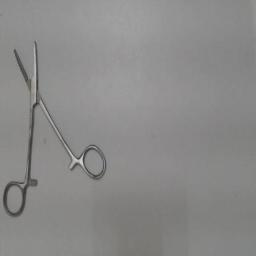Mayo Needle Holder: (2, 31, 110, 221)
